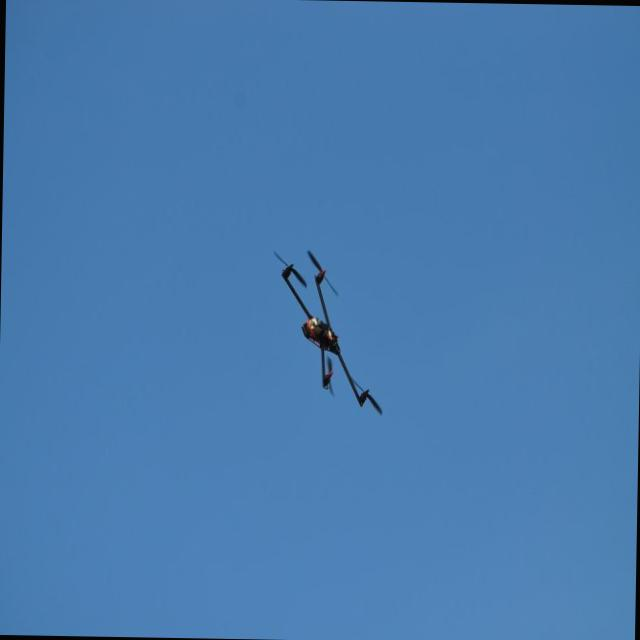drone: (270, 246, 386, 412)
